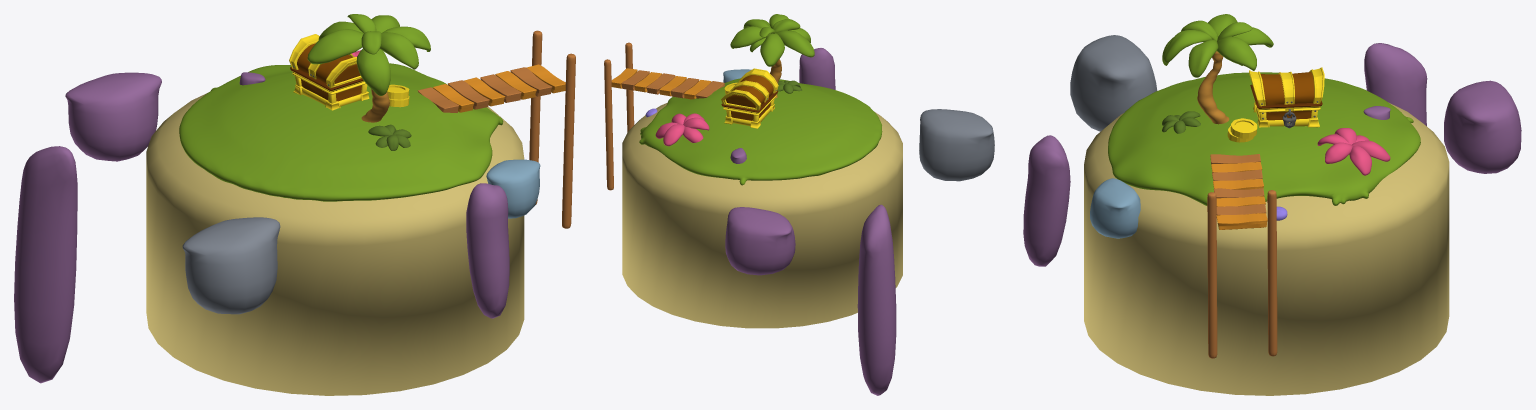
Rendered from Isola piccola.fbx.
The picture shows the model from 3 angles, left to right: view 1: azimuth 30°, elevation 25°; view 2: azimuth 150°, elevation 25°; view 3: azimuth 270°, elevation 25°; orthographic projection. The views are drawn at different scales.
Visible parts, largest first — view 1: isola piccola; view 2: isola piccola; view 3: isola piccola.
Part boxes in pixels (bbox=[...]): isola piccola: bbox=[14, 14, 575, 395]; isola piccola: bbox=[604, 14, 994, 395]; isola piccola: bbox=[1023, 14, 1521, 395].
Size of the model in its own units: 3249 by 2532 by 3164.
